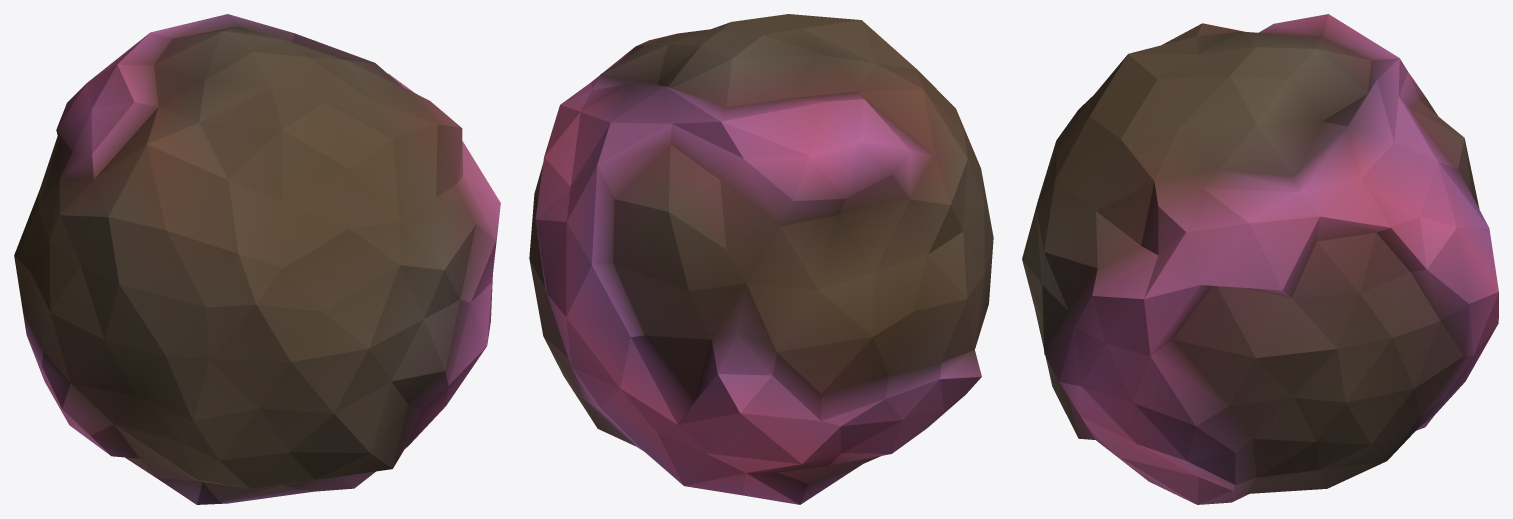
The model's file is Generic_Planets_Planet_Generic_Irradiated.fbx.
3 renders of one model, left to right at view 1: azimuth 30°, elevation 25°; view 2: azimuth 150°, elevation 25°; view 3: azimuth 270°, elevation 25°, orthographic.
Parts seen in each view (by area): view 1: Planet_Generic_Irradiated; view 2: Planet_Generic_Irradiated; view 3: Planet_Generic_Irradiated.
Part boxes in pixels (x1,y1,x2,y2): Planet_Generic_Irradiated: (14,14,500,504); Planet_Generic_Irradiated: (529,14,993,504); Planet_Generic_Irradiated: (1022,14,1498,504).
Size of the model in its own units: 20.07 by 20.59 by 20.39.
